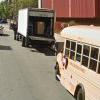Bus: (56, 22, 100, 99)
